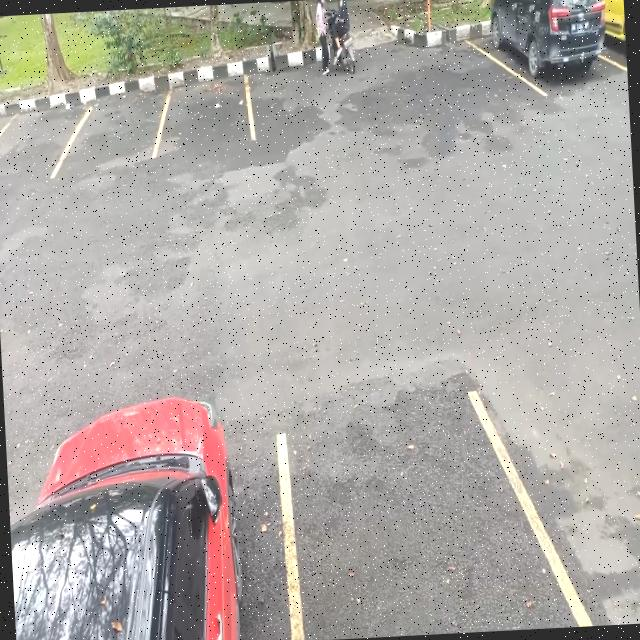empty: (275, 389, 527, 640), (160, 56, 256, 152), (67, 80, 168, 170), (0, 99, 72, 181)
occupied: (483, 0, 613, 94)
